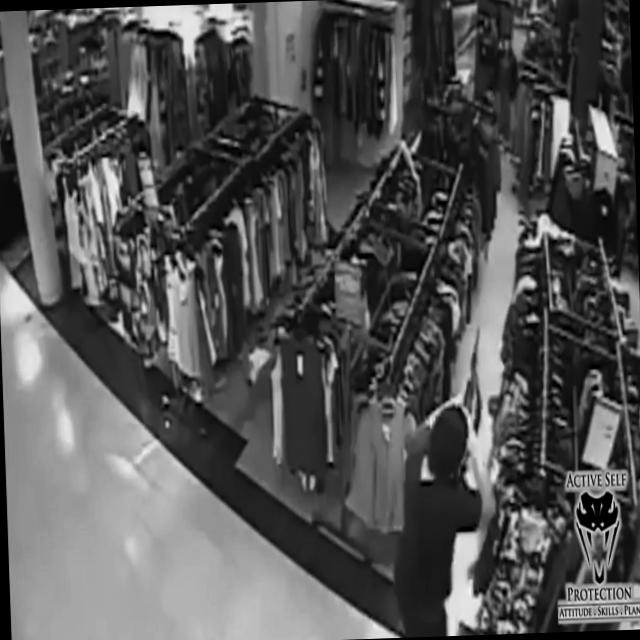gun: (460, 323, 486, 435)
person with a gun: (388, 327, 501, 636)
